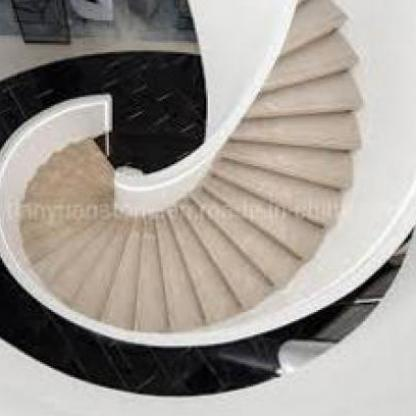stair_up: (186, 106, 340, 290)
